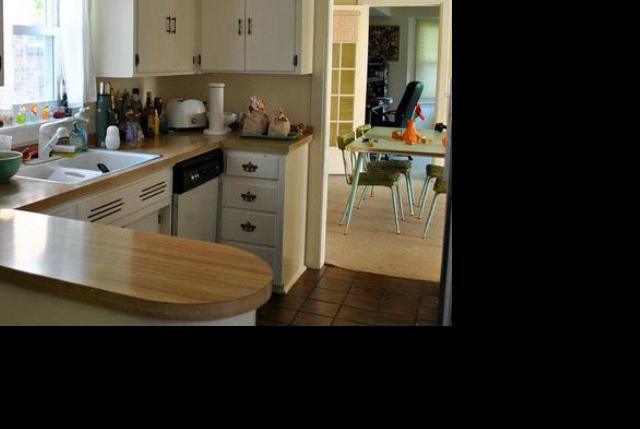Lavaplatos: (3, 106, 170, 204)
